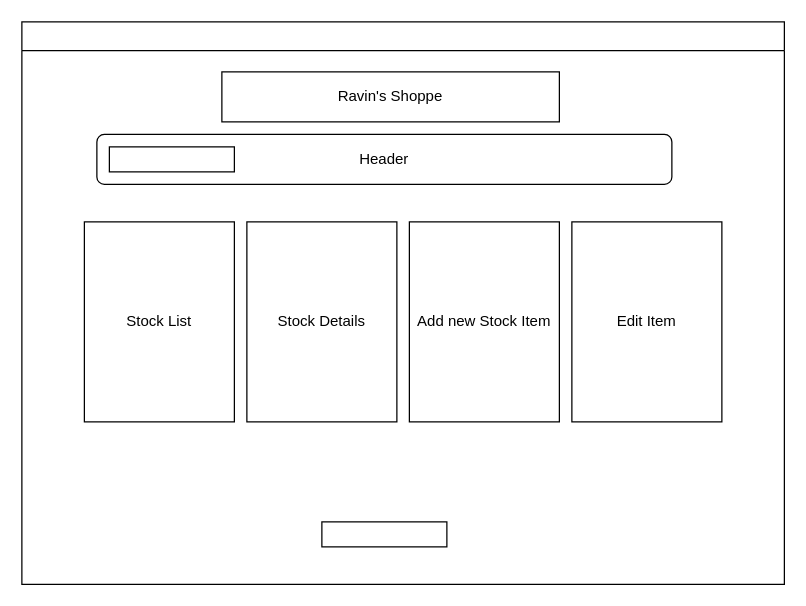
Image size: 806x606. Some labels were removed from this diagram. Each missing label, with the box of its shape:
Buy: (321, 521, 447, 547)
Shop Stock: (108, 146, 234, 172)
